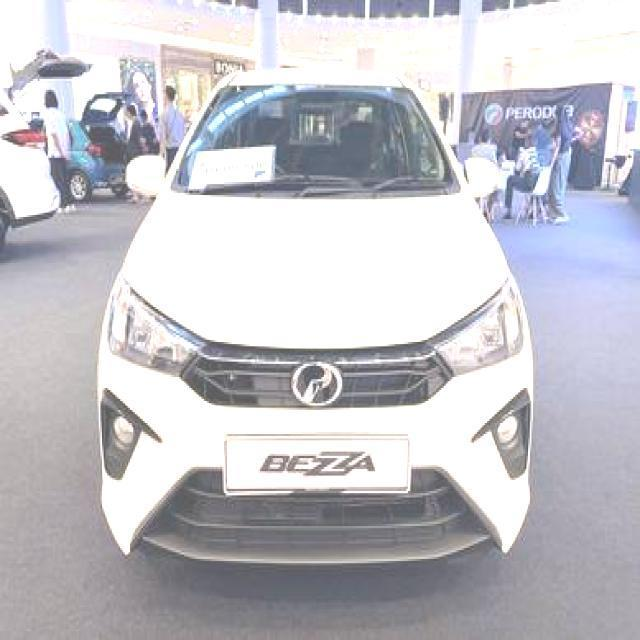PeroduaBezza: (95, 66, 536, 568)
